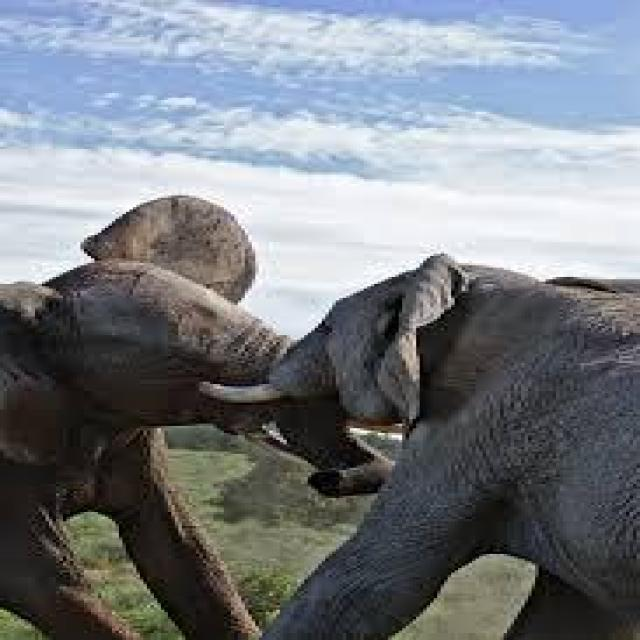Elephant: (266, 253, 636, 638), (0, 191, 287, 633)
